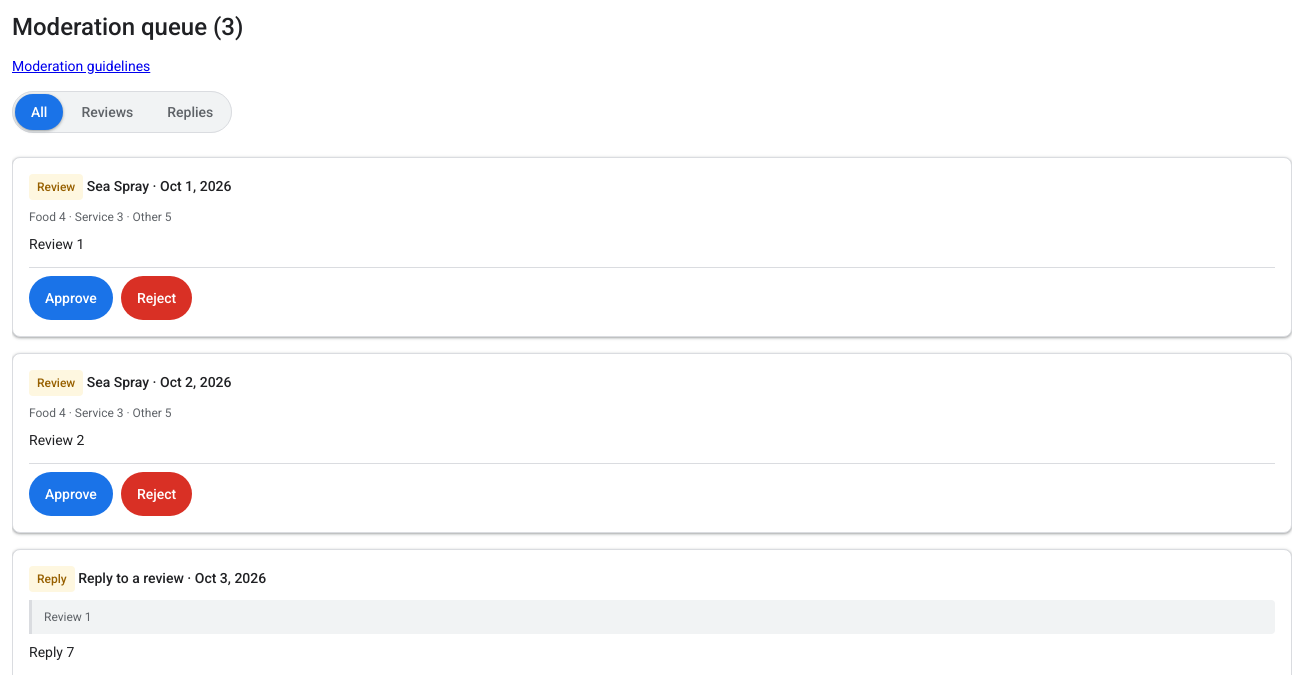
Test: ModerationQueueComponent › keeps the item, with a message, when the decision fails
What coordinates should you click on to do the following:
click the button "Approve" below "Oct 1, 2026"
I would click on:
 (71, 298)
Its box is [29, 276, 113, 320].
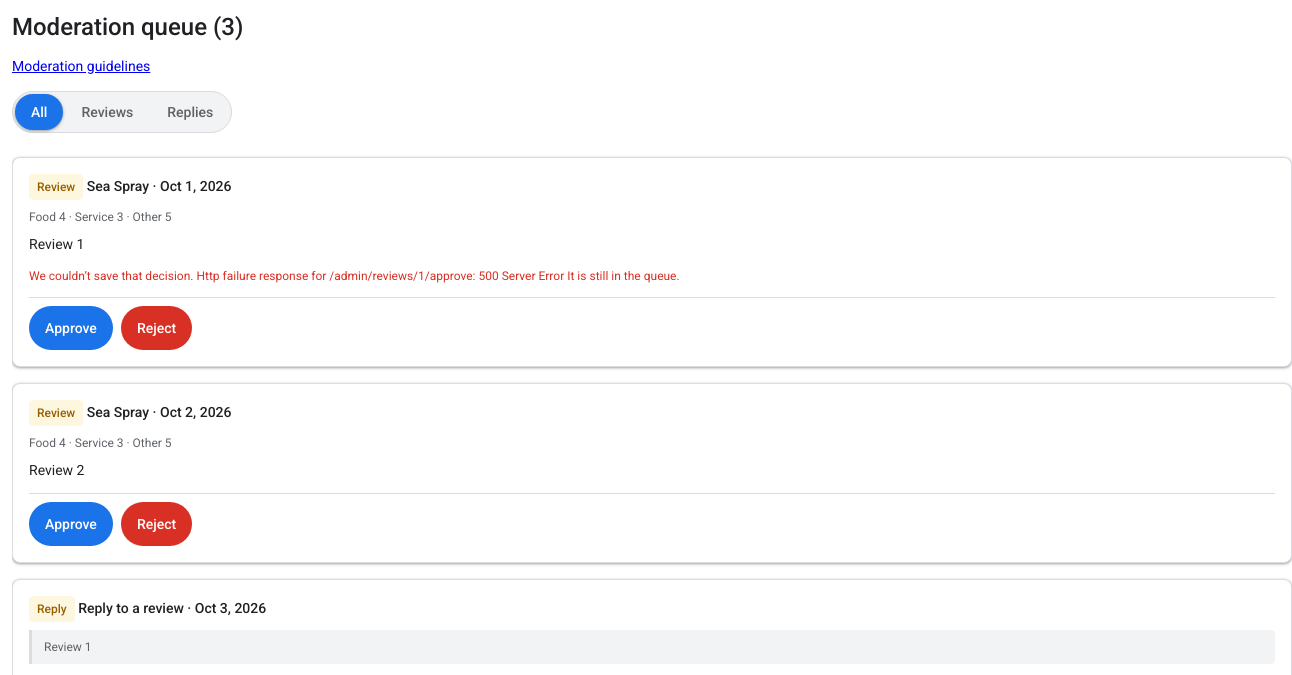
Now the message shows "still in the queue", box [29, 269, 680, 283]
